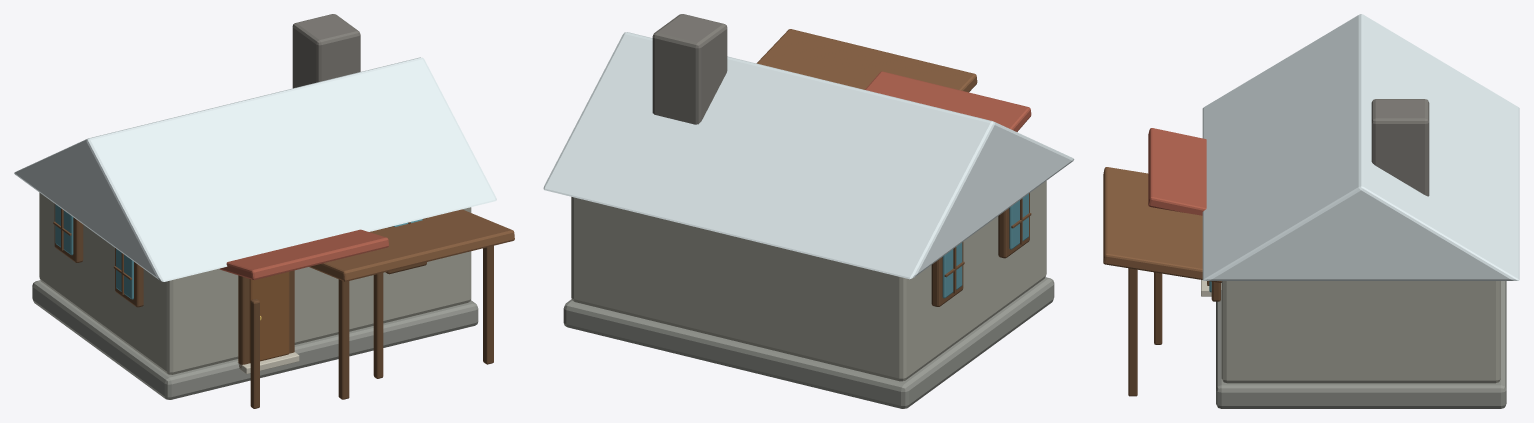
The model's file is snowy-workshop-1.glb.
3 renders of one model, left to right at view 1: azimuth 30°, elevation 25°; view 2: azimuth 150°, elevation 25°; view 3: azimuth 270°, elevation 25°, orthographic. The views are drawn at different scales.
Visible parts, largest first — view 1: Snow, Fieldstone, Foundation stone, Dark beams, Wood shingles, Soot stone, Clay tiles, Door oak, Blue glass, Cut limestone; view 2: Snow, Fieldstone, Foundation stone, Soot stone, Wood shingles, Clay tiles, Dark beams, Blue glass; view 3: Snow, Fieldstone, Foundation stone, Wood shingles, Soot stone, Clay tiles, Dark beams.
Part boxes in pixels (x1,y1,x2,y2): Snow: (14, 57, 496, 281); Fieldstone: (39, 192, 471, 374); Foundation stone: (32, 280, 478, 399); Dark beams: (53, 204, 493, 408); Wood shingles: (309, 209, 514, 281); Soot stone: (292, 14, 360, 88); Clay tiles: (219, 229, 388, 280); Door oak: (249, 272, 289, 363); Blue glass: (55, 204, 422, 299); Cut limestone: (237, 352, 299, 374); Snow: (543, 32, 1074, 279); Fieldstone: (571, 181, 1046, 381); Foundation stone: (563, 277, 1054, 408); Soot stone: (652, 14, 727, 124); Wood shingles: (756, 29, 977, 92); Clay tiles: (865, 71, 1031, 131); Dark beams: (931, 193, 1031, 306); Blue glass: (942, 194, 1028, 298); Snow: (1202, 14, 1519, 280); Fieldstone: (1221, 281, 1500, 383); Foundation stone: (1216, 281, 1506, 408); Wood shingles: (1103, 167, 1221, 282); Soot stone: (1371, 99, 1429, 196); Clay tiles: (1148, 128, 1206, 215); Dark beams: (1128, 268, 1220, 396).
Bounding box in the file's own units: 4.44 × 3.17 × 4.47.
